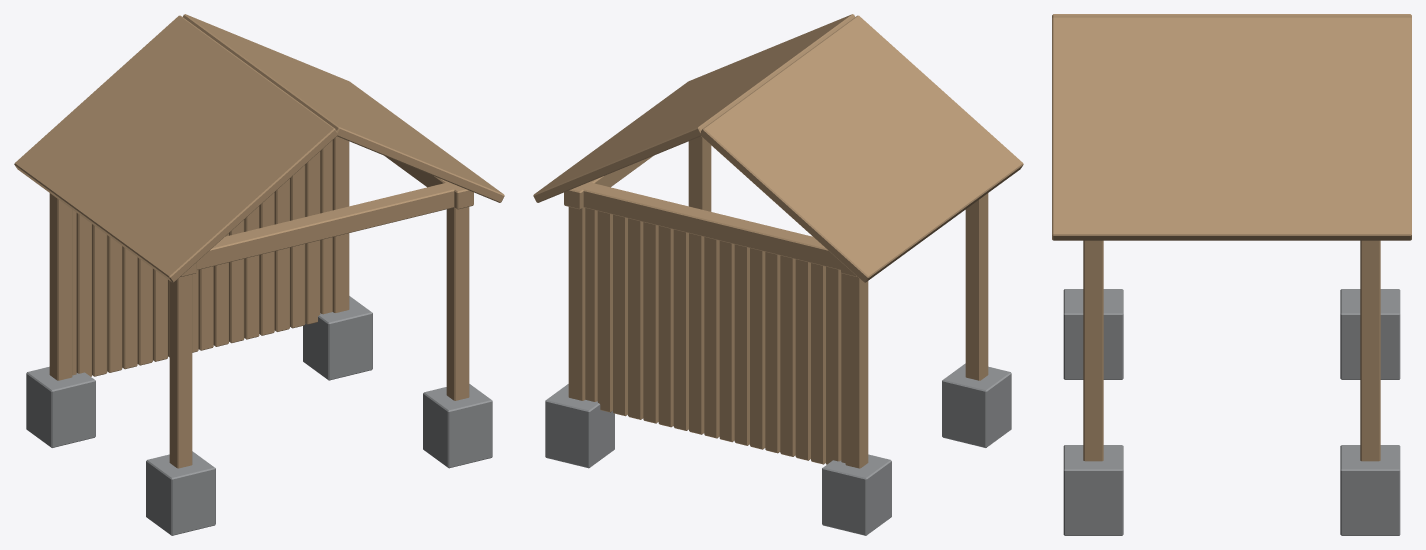
Rendered from SM_ExampleHouse.fbx.
The picture shows the model from 3 angles, left to right: view 1: azimuth 30°, elevation 25°; view 2: azimuth 150°, elevation 25°; view 3: azimuth 270°, elevation 25°; orthographic projection. The views are drawn at different scales.
Visible parts, largest first — view 1: SM_ExampleHouse; view 2: SM_ExampleHouse; view 3: SM_ExampleHouse.
Part boxes in pixels (x1,y1,x2,y2): SM_ExampleHouse: (14,14,504,535); SM_ExampleHouse: (533,14,1023,535); SM_ExampleHouse: (1052,14,1411,535).
Size of what is drawn, in the model's own units: 4.85 by 3.9 by 5.14.
